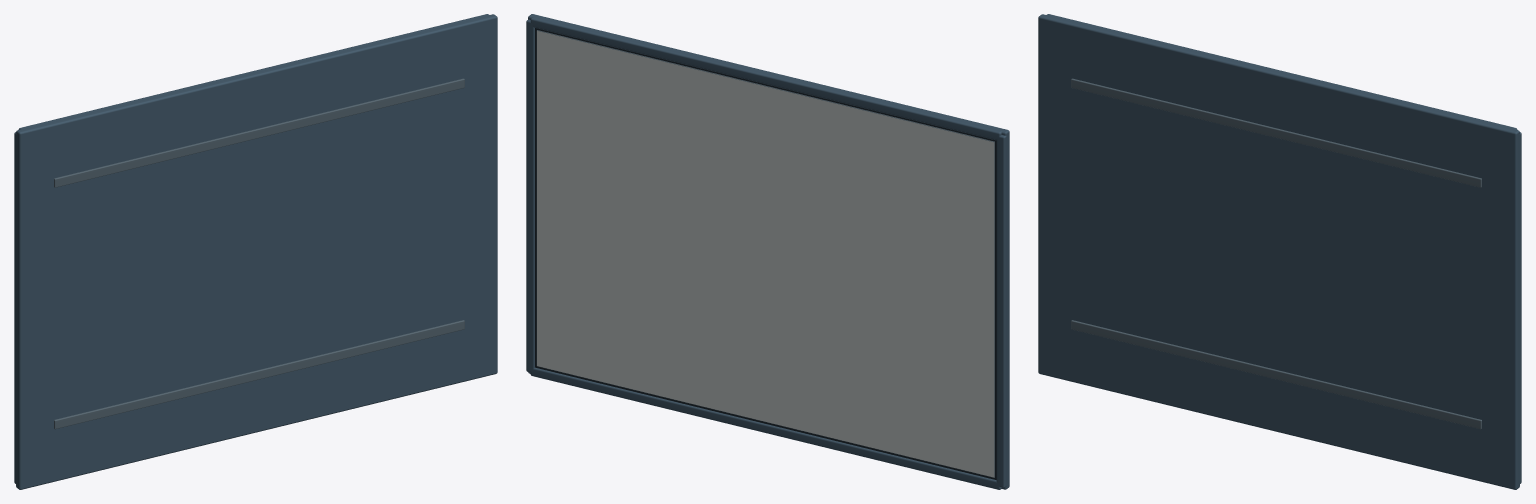
Rendered from d04_corporate_graphics_01.glb.
The picture shows the model from 3 angles, left to right: view 1: azimuth 30°, elevation 25°; view 2: azimuth 150°, elevation 25°; view 3: azimuth 330°, elevation 25°; orthographic projection.
Visible parts, largest first — view 1: D04CorporateGraphics01_Hardware; view 2: D04CorporateGraphics01_ArtworkCarrier, D04CorporateGraphics01_Hardware; view 3: D04CorporateGraphics01_Hardware.
Boxes of the visible parts, box(x1,y1,x2,y2) form: D04CorporateGraphics01_Hardware: box(14, 14, 497, 489); D04CorporateGraphics01_ArtworkCarrier: box(536, 30, 994, 477); D04CorporateGraphics01_Hardware: box(526, 14, 1009, 489); D04CorporateGraphics01_Hardware: box(1038, 14, 1521, 489).
Bounding box in the file's own units: 5.6 × 4 × 0.14.
